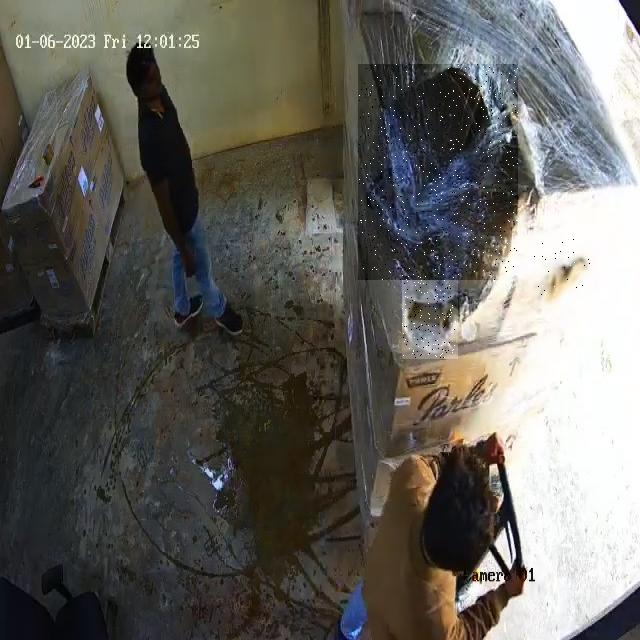leakage: (403, 270, 456, 358), (534, 240, 592, 308)
squeeze: (358, 64, 518, 280)
